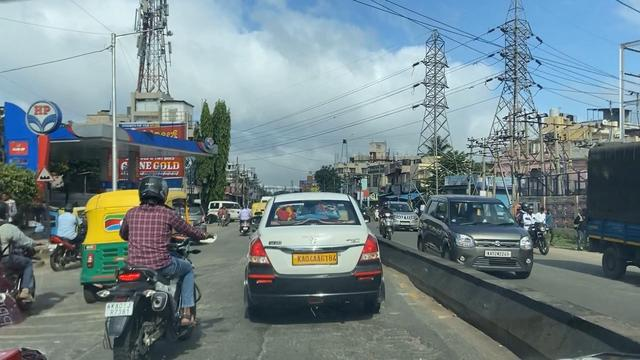LMV: (246, 193, 379, 313), (110, 177, 186, 357)
RoadDamages: (224, 326, 438, 360)
